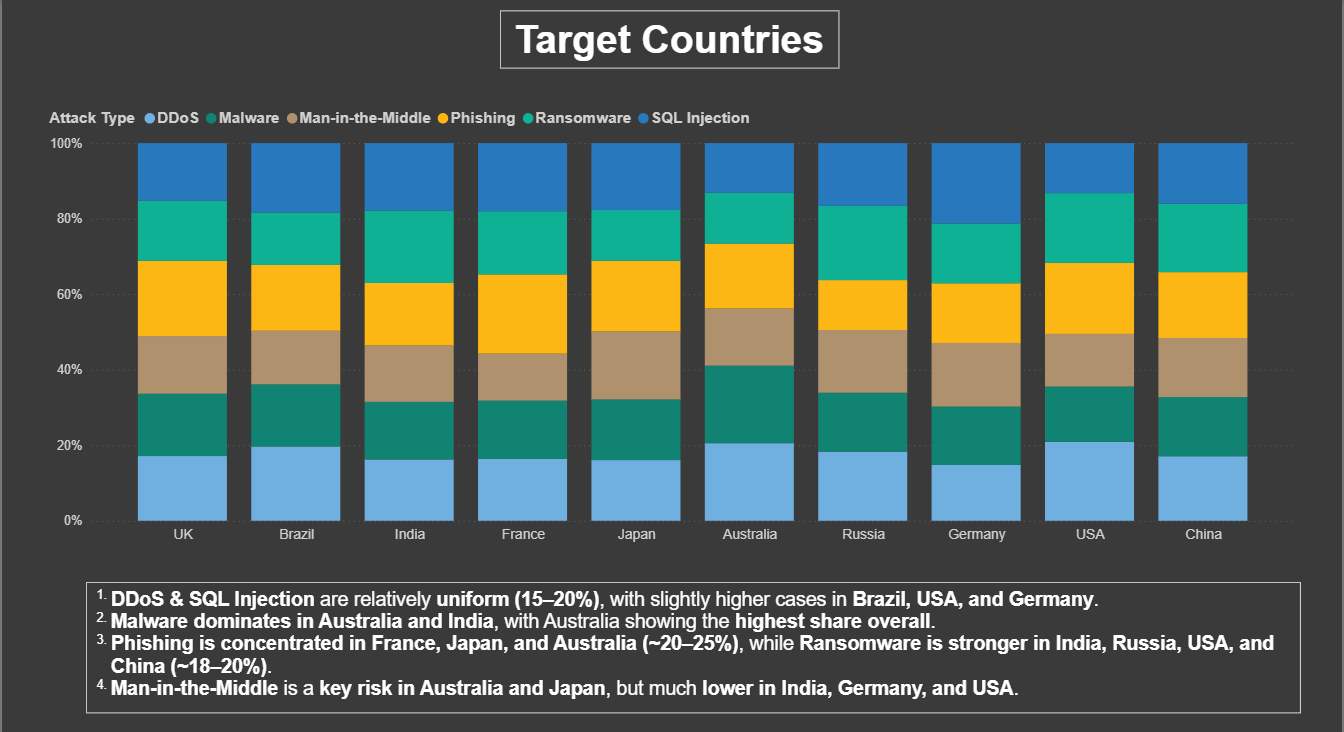

What the dashboard file says about the page in this screenshot:
{"tool":"powerbi","page":{"name":"Geographical Insights","canvas":[1280,720],"ordinal":2},"visuals":[{"type":"hundredPercentStackedColumnChart","fields":{"Category":["Global_Cybersecurity_Threats_2015-2024.Country"],"Series":["Global_Cybersecurity_Threats_2015-2024.Attack Type"],"Y":["CountNonNull(Global_Cybersecurity_Threats_2015-2024.Attack Type)"]},"box":[40.7,97.6,1198.8,434.3],"z":0},{"type":"textbox","box":[475,16.3,323.7,55.3],"z":1},{"type":"textbox","box":[79.7,561.2,1159.7,125.2],"z":2}]}

Visuals, with their boxes on the page's 1280x720 design canvas (x1, y1, x2, y2). These are canvas units, not pixel positions in the 1344x732 screenshot, which may show the page scaled, cropped or inside an application window:
hundredPercentStackedColumnChart - Global_Cybersecurity_Threats_2015-2024.Country x Global_Cybersecurity_Threats_2015-2024.Attack Type: crop(41, 98, 1240, 532)
textbox: crop(475, 16, 799, 72)
textbox: crop(80, 561, 1239, 686)
